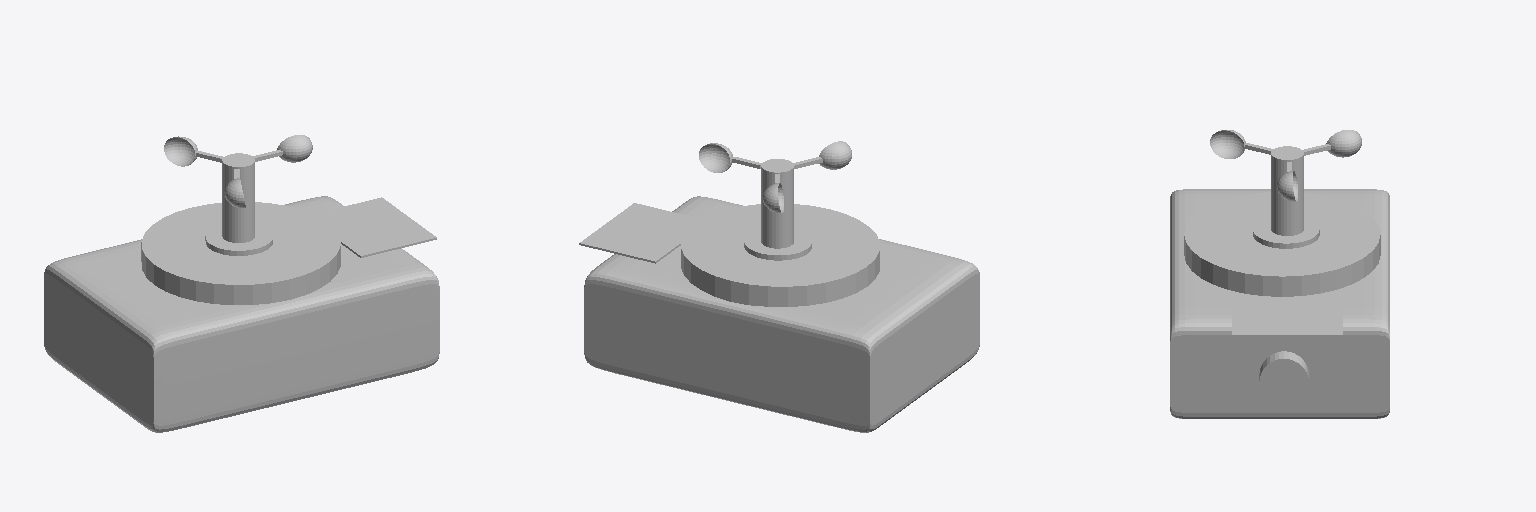
Rendered from buoym_obj.obj.
3 renders of one model, left to right at view 1: azimuth 30°, elevation 25°; view 2: azimuth 150°, elevation 25°; view 3: azimuth 270°, elevation 25°, orthographic.
Parts seen in each view (by area): view 1: Cube, Cylinder, Sphere.003, Cube.001; view 2: Cube, Cylinder, Sphere.003, Cube.001; view 3: Cube, Cylinder, Sphere.003, Cube.001, Cylinder.001.
Boxes of the visible parts, x1,y1,x2,y2 form: Cube: [44, 196, 439, 432]; Cylinder: [141, 202, 340, 304]; Sphere.003: [164, 135, 312, 255]; Cube.001: [314, 197, 436, 257]; Cube: [584, 196, 979, 432]; Cylinder: [681, 204, 879, 306]; Sphere.003: [699, 141, 851, 260]; Cube.001: [579, 203, 700, 263]; Cube: [1170, 189, 1389, 418]; Cylinder: [1184, 192, 1380, 296]; Sphere.003: [1210, 130, 1361, 248]; Cube.001: [1232, 298, 1342, 336]; Cylinder.001: [1259, 351, 1308, 406].
Size of the model in its own units: 3.3 by 2.1 by 2.